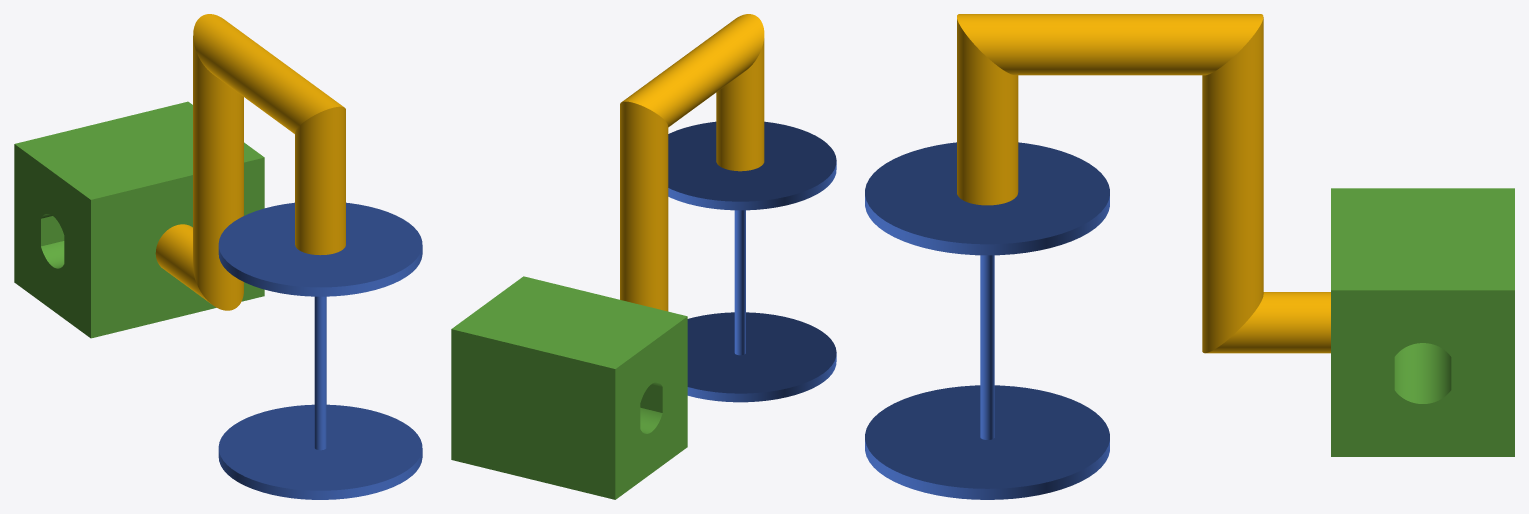
Rendered from RPR_link2.obj.
3 views of the same model, side by side, from view 1: azimuth 30°, elevation 25°; view 2: azimuth 150°, elevation 25°; view 3: azimuth 270°, elevation 25° (orthographic). The views are drawn at different scales.
Visible parts, largest first — view 1: mesh14, mesh4, mesh0, mesh13, mesh20, mesh12, mesh19, mesh18, mesh1, mesh5, mesh3, mesh21 (+2 smaller); view 2: mesh16, mesh13, mesh4, mesh20, mesh0, mesh12, mesh19, mesh18, mesh3, mesh1, mesh5, mesh7 (+1 smaller); view 3: mesh11, mesh4, mesh13, mesh20, mesh19, mesh0, mesh18, mesh21, mesh10, mesh1, mesh5, mesh3.
Part boxes in pixels (box(x1,y1,x2,y2)): mesh14: box(91, 157, 264, 338); mesh4: box(218, 404, 422, 490); mesh0: box(218, 202, 422, 287); mesh13: box(15, 101, 264, 199); mesh20: box(193, 37, 243, 310); mesh12: box(14, 144, 90, 338); mesh19: box(193, 14, 343, 133); mesh18: box(295, 106, 345, 255); mesh1: box(218, 245, 422, 296); mesh5: box(218, 449, 422, 499); mesh3: box(314, 296, 326, 450); mesh21: box(155, 224, 210, 303); mesh16: box(451, 329, 615, 499); mesh13: box(452, 276, 686, 368); mesh4: box(687, 312, 836, 393); mesh20: box(620, 101, 668, 311); mesh0: box(668, 121, 836, 201); mesh12: box(615, 316, 687, 499); mesh19: box(622, 14, 764, 127); mesh18: box(716, 38, 764, 171); mesh3: box(734, 210, 745, 355); mesh1: box(668, 161, 836, 210); mesh5: box(687, 353, 836, 402); mesh7: box(640, 384, 662, 412); mesh11: box(1331, 290, 1514, 456); mesh4: box(865, 385, 1109, 488); mesh13: box(1331, 188, 1514, 290); mesh20: box(1202, 17, 1263, 353); mesh19: box(957, 14, 1263, 75); mesh0: box(865, 142, 1109, 244); mesh18: box(957, 19, 1018, 205); mesh21: box(1206, 292, 1330, 353); mesh10: box(1394, 343, 1451, 403); mesh1: box(865, 196, 1109, 255); mesh5: box(865, 440, 1109, 499); mesh3: box(980, 255, 994, 439).
Bounding box in the file's own units: 0.0508 × 0.0986 × 0.1346.
